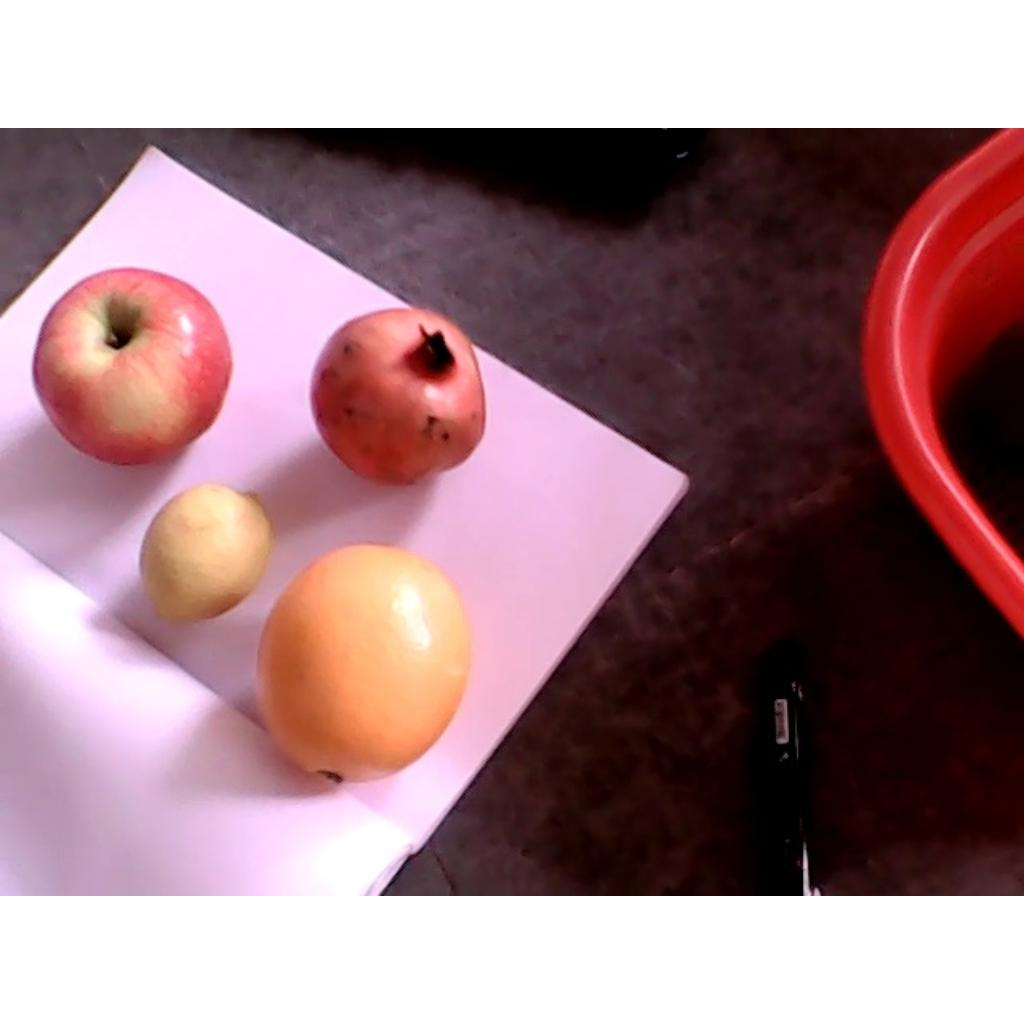apple: (31, 268, 234, 466)
lemon: (140, 485, 273, 627)
orange: (251, 543, 472, 786)
pomegranate: (309, 307, 487, 488)
